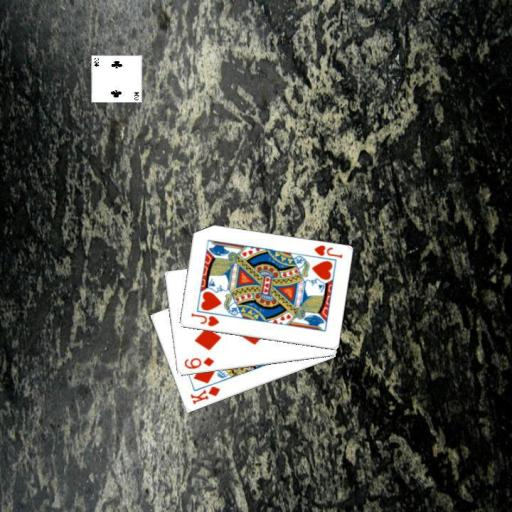6D: (181, 354, 216, 371)
JH: (188, 310, 220, 328), (311, 242, 343, 260)
KD: (187, 383, 222, 406)
